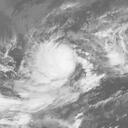cyclone: (27, 41, 73, 88)
